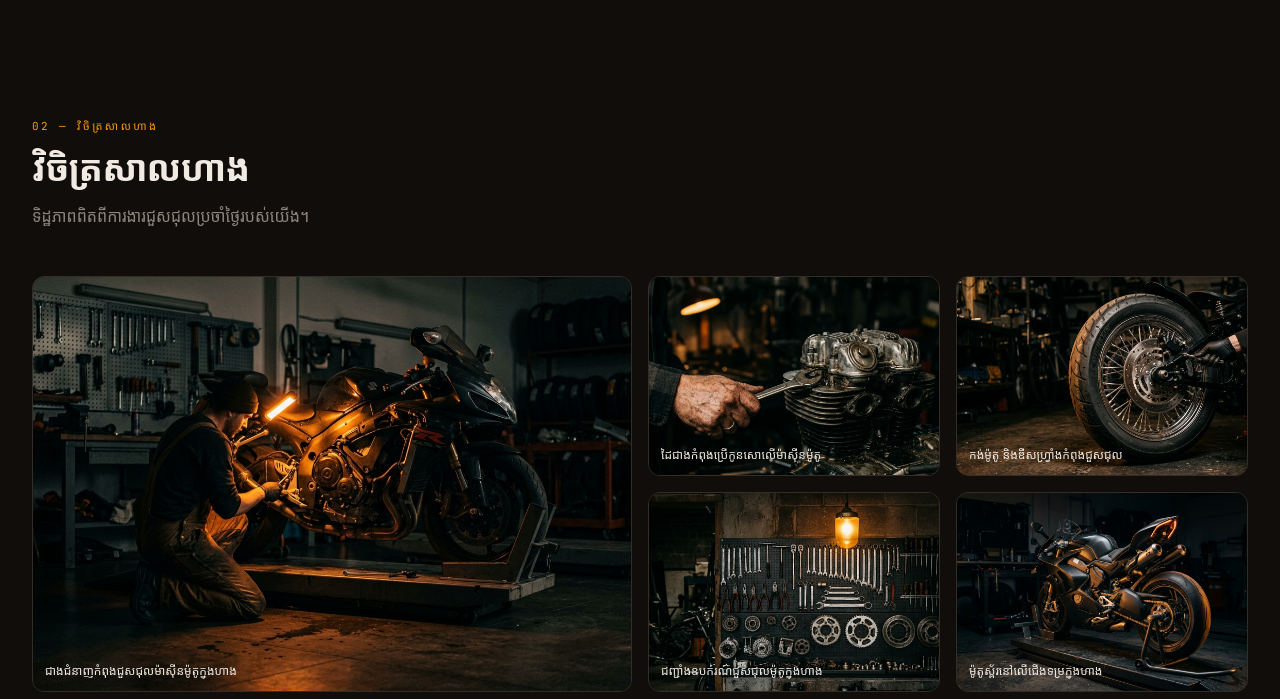
Test: Gallery lightbox › renders Khmer lightbox labels when the language is Khmer
Click the button with test id "gallery.item.1". click: [332, 484]
box: [32, 276, 632, 692]
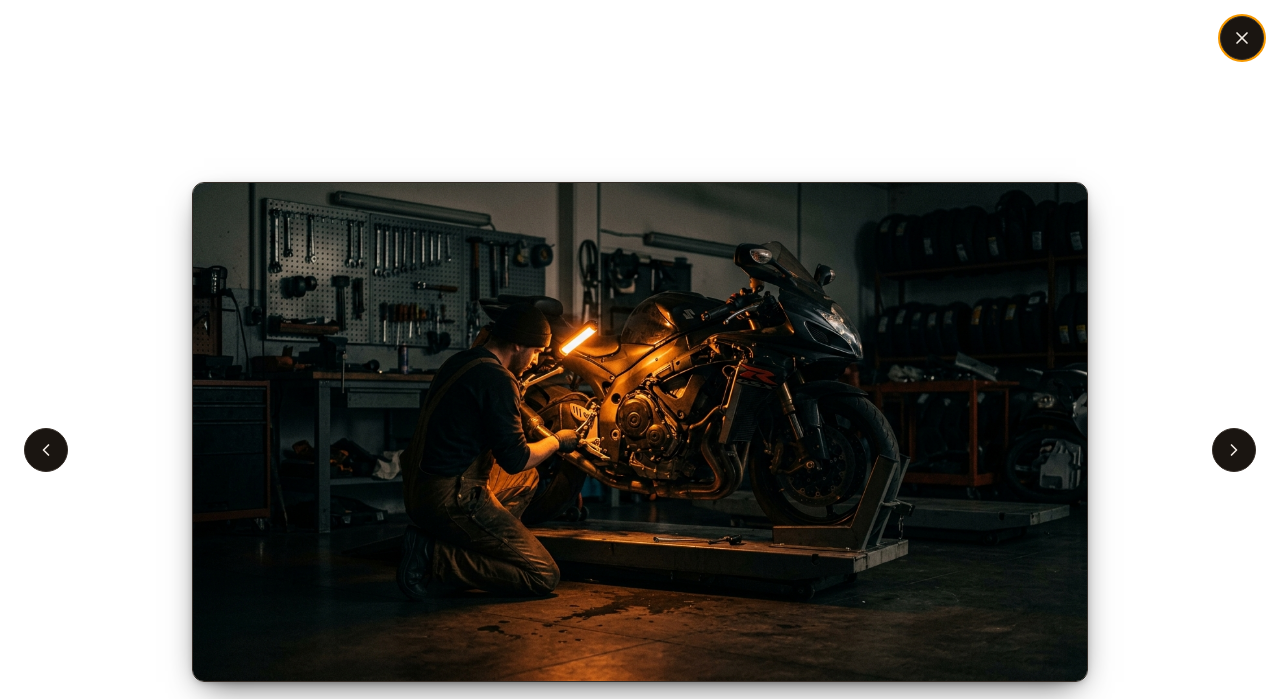
Result: the button named "បន្ទាប់" is shown at [1212, 428, 1256, 472]
Result: the button named "មុន" is shown at [24, 428, 68, 472]
